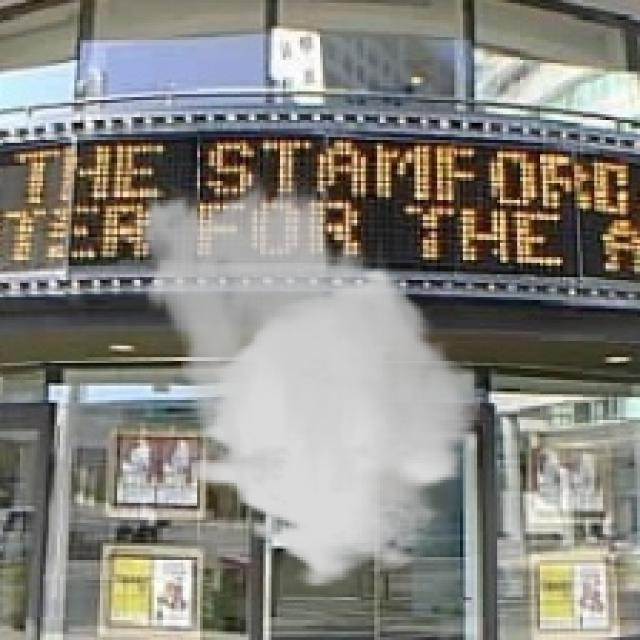smoke: (123, 172, 480, 588)
